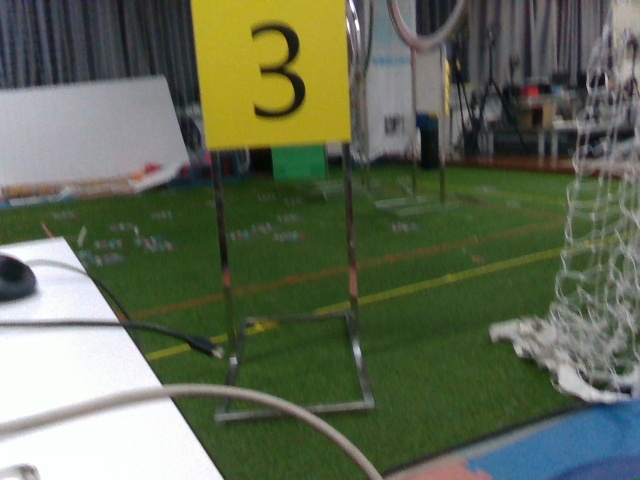target: (201, 7, 352, 142)
